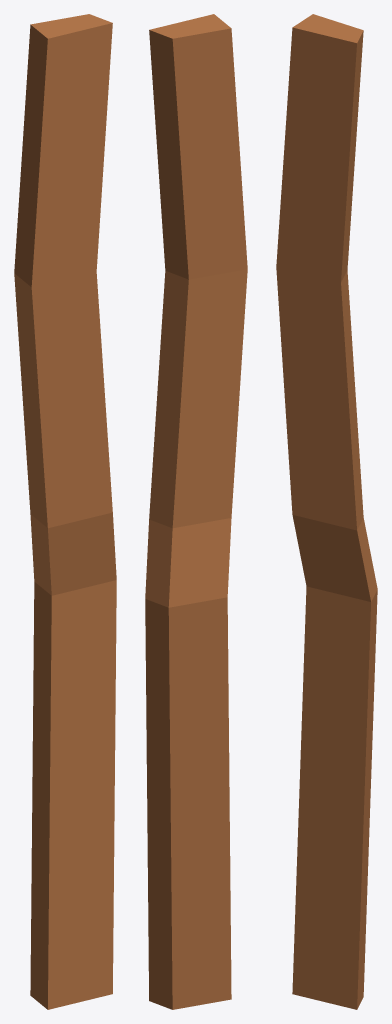
The model's file is lacune.fbx_WoodBeamLong002.fbx.
3 renders of one model, left to right at view 1: azimuth 30°, elevation 25°; view 2: azimuth 210°, elevation 25°; view 3: azimuth 330°, elevation 25°, orthographic.
Parts seen in each view (by area): view 1: WoodBeamLong002; view 2: WoodBeamLong002; view 3: WoodBeamLong002.
Boxes of the visible parts, x1,y1,x2,y2 form: WoodBeamLong002: (14,14,116,1009); WoodBeamLong002: (145,14,247,1009); WoodBeamLong002: (276,14,377,1009).
Size of what is drawn, in the model's own units: 22.99 by 237 by 10.67.
